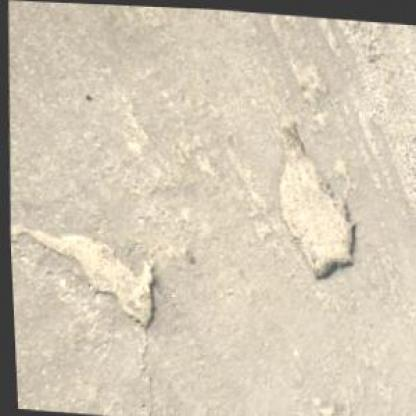pothole: (7, 216, 158, 330), (265, 113, 362, 284)
